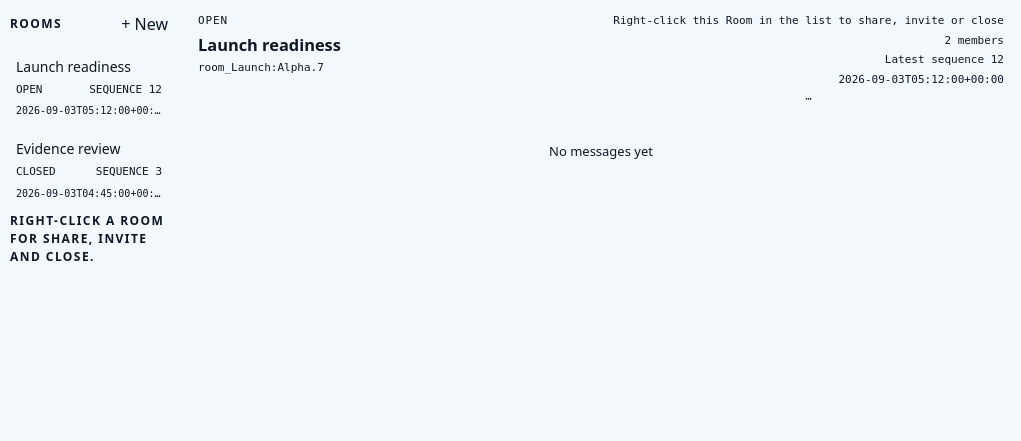
Test: SharedNet Rooms › keeps active membership and presence visible when the Room has no messages
Click the button named "Room actions" at (809, 99), box [613,91,1004,108]
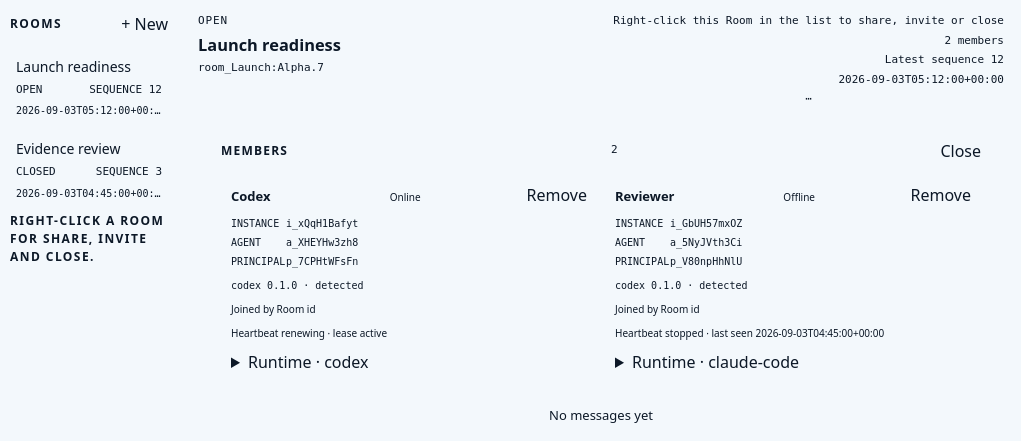
Expected: the text "No messages yet" is shown, [549,406,653,424]
Expected: the list named "Room members" is shown, [221,172,981,384]
